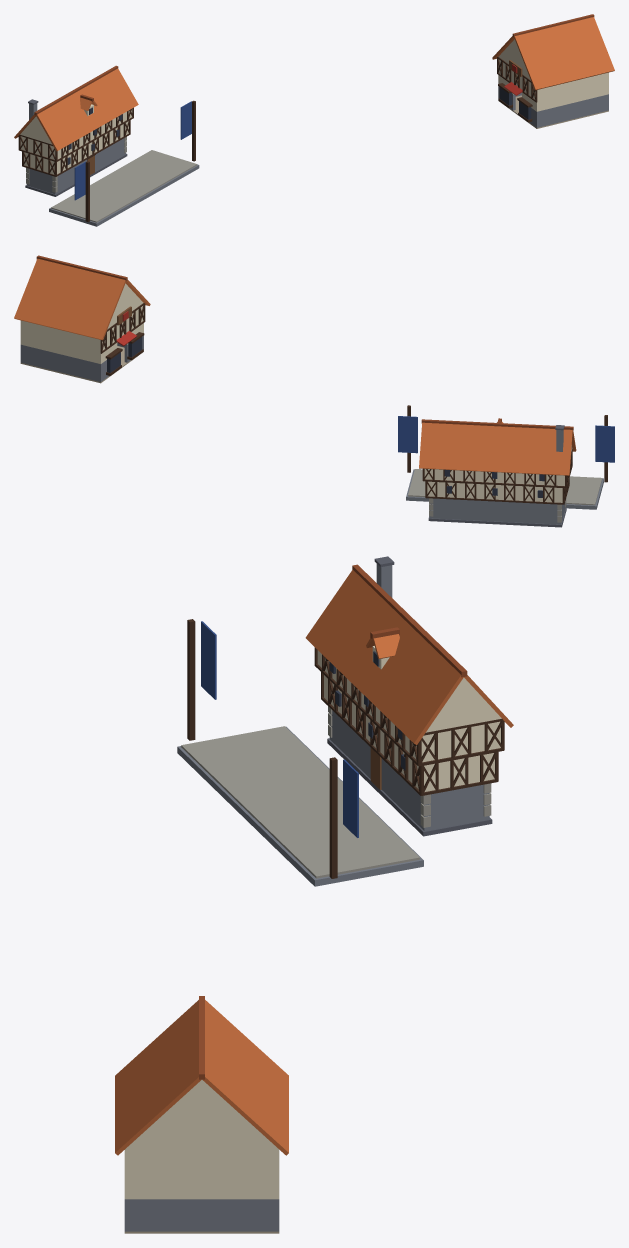
The model's file is LOBBY_VM_05_SERVICES_2856ea.fbx.
3 views of the same model, one above another, from view 1: azimuth 30°, elevation 25°; view 2: azimuth 150°, elevation 25°; view 3: azimuth 270°, elevation 25° (orthographic). The views are drawn at different scales.
Visible parts, largest first — view 1: VM_Shop_Building__Roof_VM_Terracotta, VM_Rank_Stage__Stone_VM_Trim, VM_Rank_Hall__Roof_VM_Terracotta, VM_Shop_Building__Plaster_VM_Cream, VM_Rank_Hall__Wood_VM_Timber, VM_Rank_Hall__Plaster_VM_Cream, VM_Rank_Hall__Stone_VM_Base, VM_Shop_Building__Stone_VM_Base, VM_Rank_Stage__Cloth_VM_Blue, VM_Shop_Building__Wood_VM_Timber, VM_Rank_Stage__Stone_VM_Base, VM_Rank_Stage__Wood_VM_Timber (+3 smaller); view 2: VM_Rank_Hall__Roof_VM_Terracotta, VM_Shop_Building__Roof_VM_Terracotta, VM_Shop_Building__Plaster_VM_Cream, VM_Rank_Hall__Plaster_VM_Cream, VM_Rank_Hall__Stone_VM_Base, VM_Rank_Hall__Wood_VM_Timber, VM_Shop_Building__Stone_VM_Base, VM_Rank_Stage__Cloth_VM_Blue, VM_Rank_Stage__Stone_VM_Trim, VM_Shop_Building__Wood_VM_Timber, VM_Rank_Hall__Roof_VM_Ridge, VM_Rank_Hall__Stone_VM_Dark (+2 smaller); view 3: VM_Rank_Stage__Stone_VM_Trim, VM_Shop_Building__Roof_VM_Terracotta, VM_Shop_Building__Plaster_VM_Cream, VM_Rank_Hall__Roof_VM_Terracotta, VM_Rank_Hall__Wood_VM_Timber, VM_Rank_Hall__Plaster_VM_Cream, VM_Shop_Building__Stone_VM_Base, VM_Rank_Hall__Stone_VM_Base, VM_Rank_Stage__Stone_VM_Base, VM_Rank_Stage__Wood_VM_Timber, VM_Rank_Stage__Cloth_VM_Blue, VM_Rank_Hall__Roof_VM_Ridge (+1 smaller).
Part boxes in pixels (x1,y1,x2,y2): VM_Shop_Building__Roof_VM_Terracotta: (492, 17, 614, 90); VM_Rank_Stage__Stone_VM_Trim: (51, 150, 197, 222); VM_Rank_Hall__Roof_VM_Terracotta: (14, 68, 138, 151); VM_Shop_Building__Plaster_VM_Cream: (498, 39, 608, 111); VM_Rank_Hall__Wood_VM_Timber: (18, 107, 133, 176); VM_Rank_Hall__Plaster_VM_Cream: (20, 104, 132, 174); VM_Rank_Hall__Stone_VM_Base: (26, 103, 125, 194); VM_Shop_Building__Stone_VM_Base: (498, 86, 608, 127); VM_Rank_Stage__Cloth_VM_Blue: (74, 101, 191, 200); VM_Shop_Building__Wood_VM_Timber: (497, 57, 537, 122); VM_Rank_Stage__Stone_VM_Base: (49, 164, 199, 226); VM_Rank_Stage__Wood_VM_Timber: (85, 100, 195, 221); VM_Rank_Hall__Roof_VM_Terracotta: (419, 421, 576, 475); VM_Shop_Building__Roof_VM_Terracotta: (14, 258, 150, 340); VM_Shop_Building__Plaster_VM_Cream: (20, 283, 143, 363); VM_Rank_Hall__Plaster_VM_Cream: (424, 445, 572, 502); VM_Rank_Hall__Stone_VM_Base: (429, 430, 565, 524); VM_Rank_Hall__Wood_VM_Timber: (422, 449, 572, 504); VM_Shop_Building__Stone_VM_Base: (20, 335, 143, 381); VM_Rank_Stage__Cloth_VM_Blue: (398, 416, 614, 462); VM_Rank_Stage__Stone_VM_Trim: (408, 469, 602, 505); VM_Shop_Building__Wood_VM_Timber: (100, 303, 145, 375); VM_Rank_Hall__Roof_VM_Ridge: (421, 418, 573, 430); VM_Rank_Hall__Stone_VM_Dark: (428, 425, 566, 527); VM_Rank_Stage__Stone_VM_Trim: (181, 726, 419, 878); VM_Shop_Building__Roof_VM_Terracotta: (115, 1000, 288, 1155); VM_Shop_Building__Plaster_VM_Cream: (124, 1080, 279, 1199); VM_Rank_Hall__Roof_VM_Terracotta: (305, 569, 513, 744); VM_Rank_Hall__Wood_VM_Timber: (314, 647, 504, 795); VM_Rank_Hall__Plaster_VM_Cream: (317, 646, 501, 791); VM_Shop_Building__Stone_VM_Base: (124, 1199, 279, 1231); VM_Rank_Hall__Stone_VM_Base: (329, 564, 489, 830); VM_Rank_Stage__Stone_VM_Base: (177, 726, 423, 886); VM_Rank_Stage__Wood_VM_Timber: (187, 619, 337, 878); VM_Rank_Stage__Cloth_VM_Blue: (201, 621, 358, 837); VM_Rank_Hall__Roof_VM_Ridge: (352, 564, 467, 677).
Size of the model in its own units: 205 by 33.58 by 67.12.
